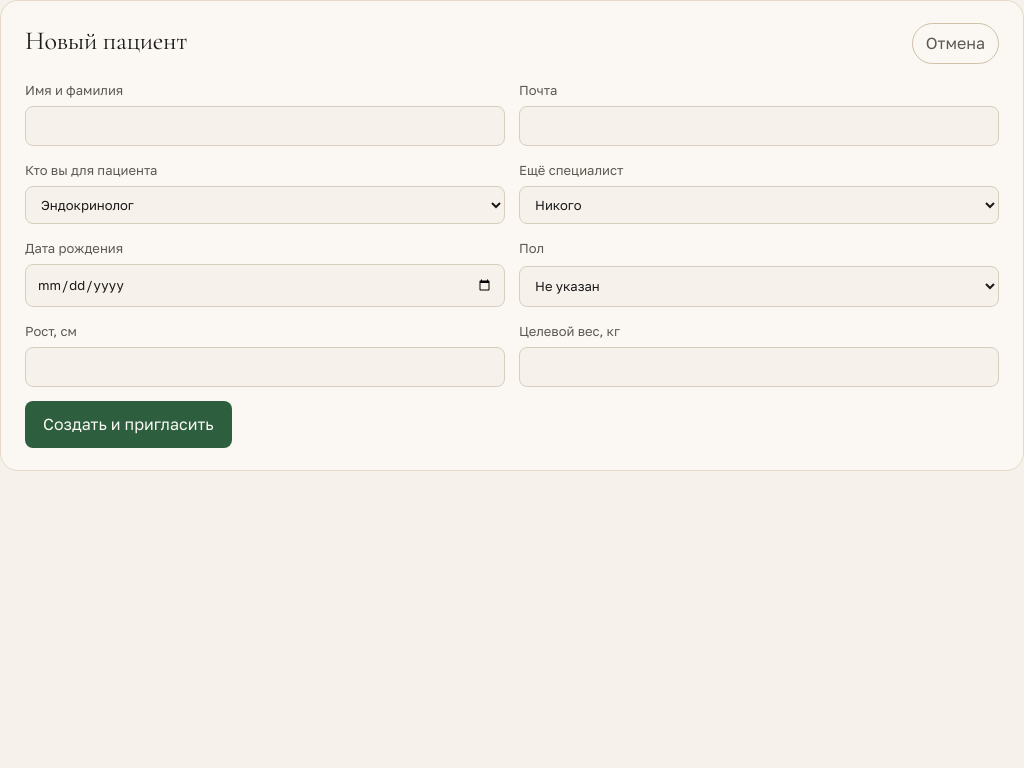
Test: what the form does with a refusal › falls back to what the API wrote
Type "Марина Волкова" into the field labelled "Имя и фамилия" at (265, 126), box [25, 106, 505, 146]
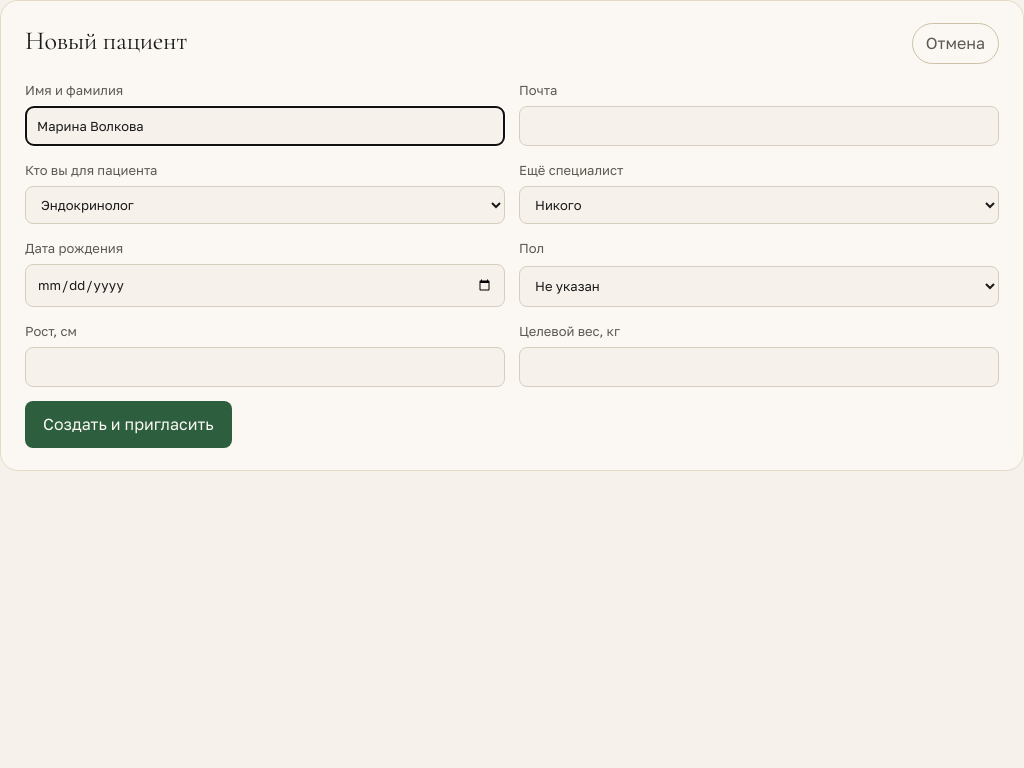
Type "marina@clinic.example" into the field labelled "Почта" at (759, 126), box [519, 106, 999, 146]
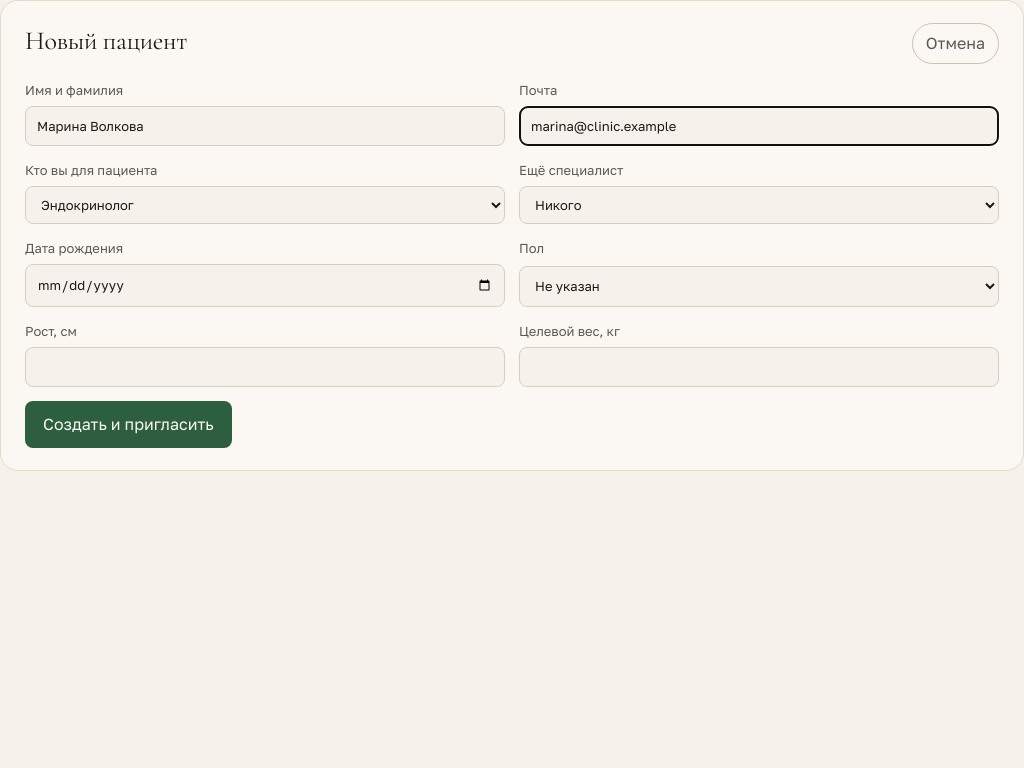
Click the button "Создать и пригласить" at (128, 424), box [25, 401, 232, 448]
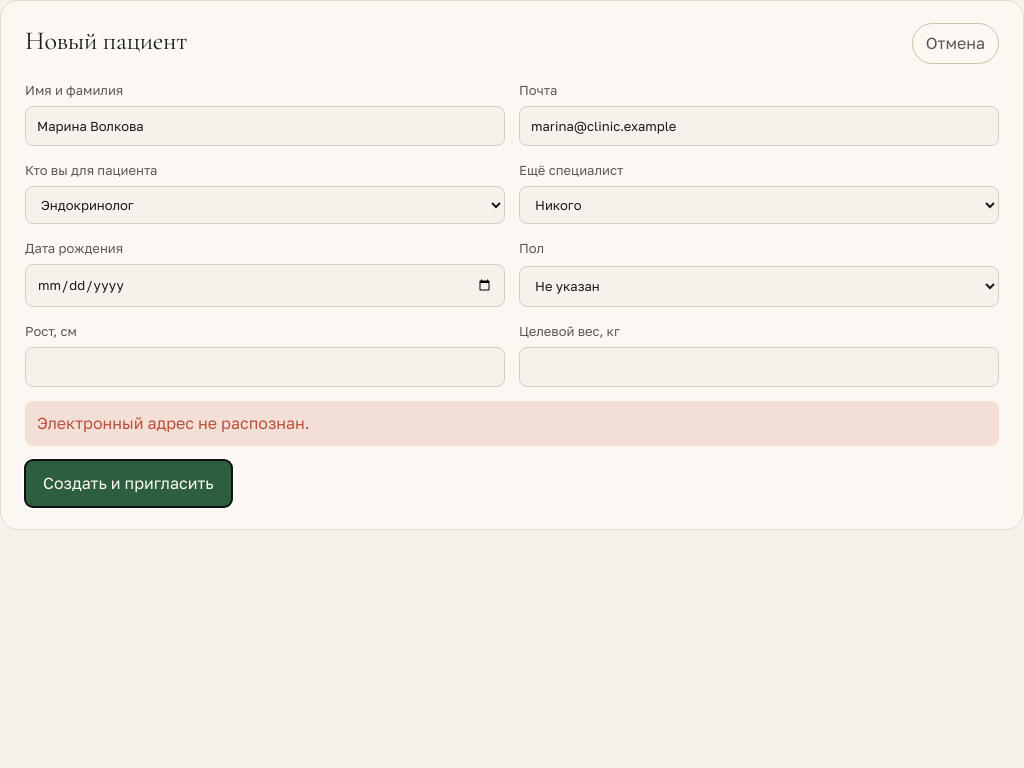
Now the message reads "Электронный адрес не распознан.", box [37, 413, 310, 433]
